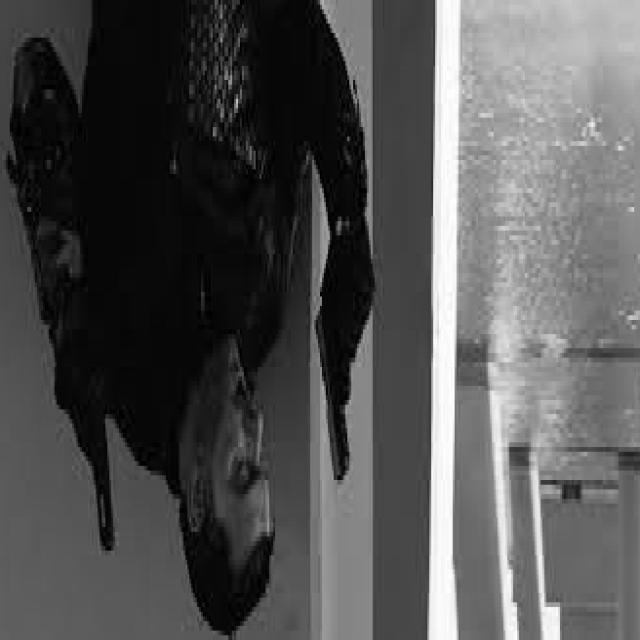gun: (51, 330, 128, 558), (310, 240, 376, 506)
